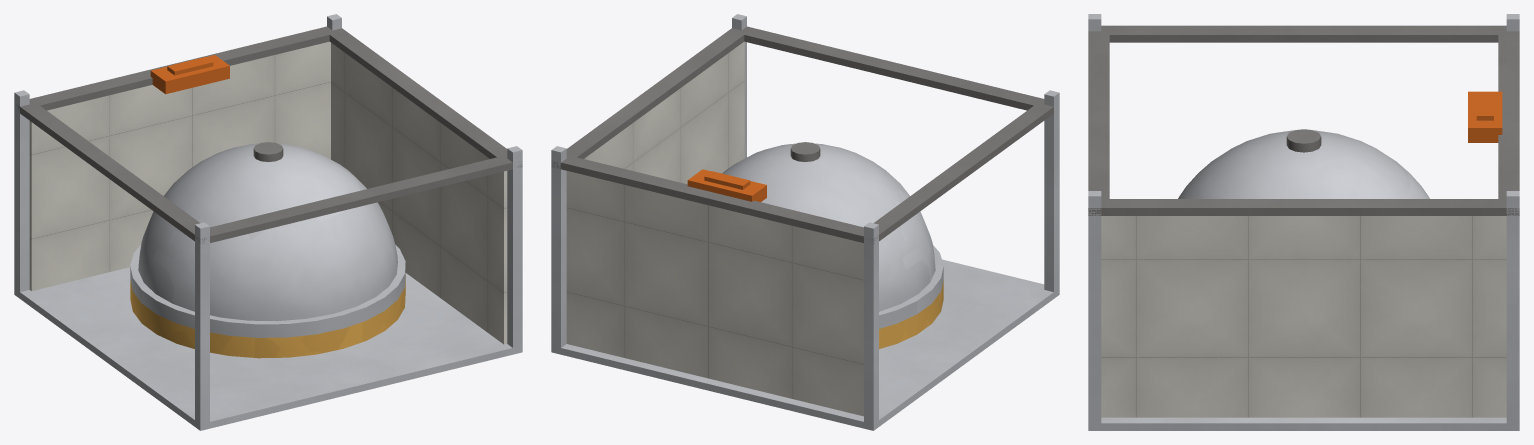
The model's file is sci02_seismometer.glb.
3 views of the same model, side by side, from view 1: azimuth 30°, elevation 25°; view 2: azimuth 150°, elevation 25°; view 3: azimuth 270°, elevation 25° (orthographic). The views are drawn at different scales.
Parts seen in each view (by area): view 1: carrier_walls, slot_frame, dome, top_rim, dome_skirt, port_1, grapple_knob; view 2: carrier_walls, slot_frame, top_rim, dome, port_1, dome_skirt, grapple_knob; view 3: carrier_walls, top_rim, slot_frame, dome, port_1, grapple_knob.
Part boxes in pixels (x1,y1,x2,y2): carrier_walls: (29,41,507,344); slot_frame: (14,14,522,430); dome: (130,143,405,337); top_rim: (17,26,522,243); dome_skirt: (130,276,405,358); port_1: (150,55,229,94); grapple_knob: (253,142,283,161); carrier_walls: (566,41,863,416); slot_frame: (551,14,1059,430); top_rim: (551,26,1053,244); dome: (722,143,943,328); port_1: (687,169,766,202); dome_skirt: (879,280,943,348); grapple_knob: (790,142,820,161); carrier_walls: (1101,216,1506,417); top_rim: (1088,25,1519,215); slot_frame: (1088,14,1519,430); dome: (1178,130,1429,198); port_1: (1468,91,1502,142); grapple_knob: (1286,129,1321,152).
Bounding box in the file's own units: 1 × 0.6 × 1.
Materials: 6 (4 with a texture image).
